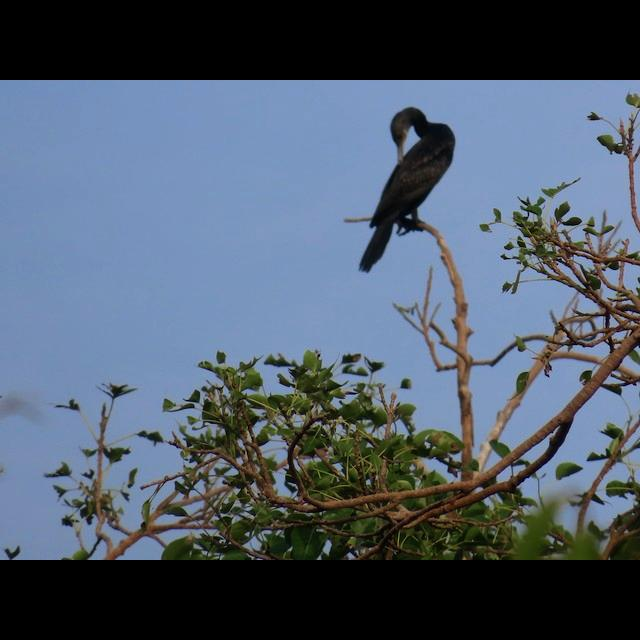cormorant: (352, 104, 460, 276)
